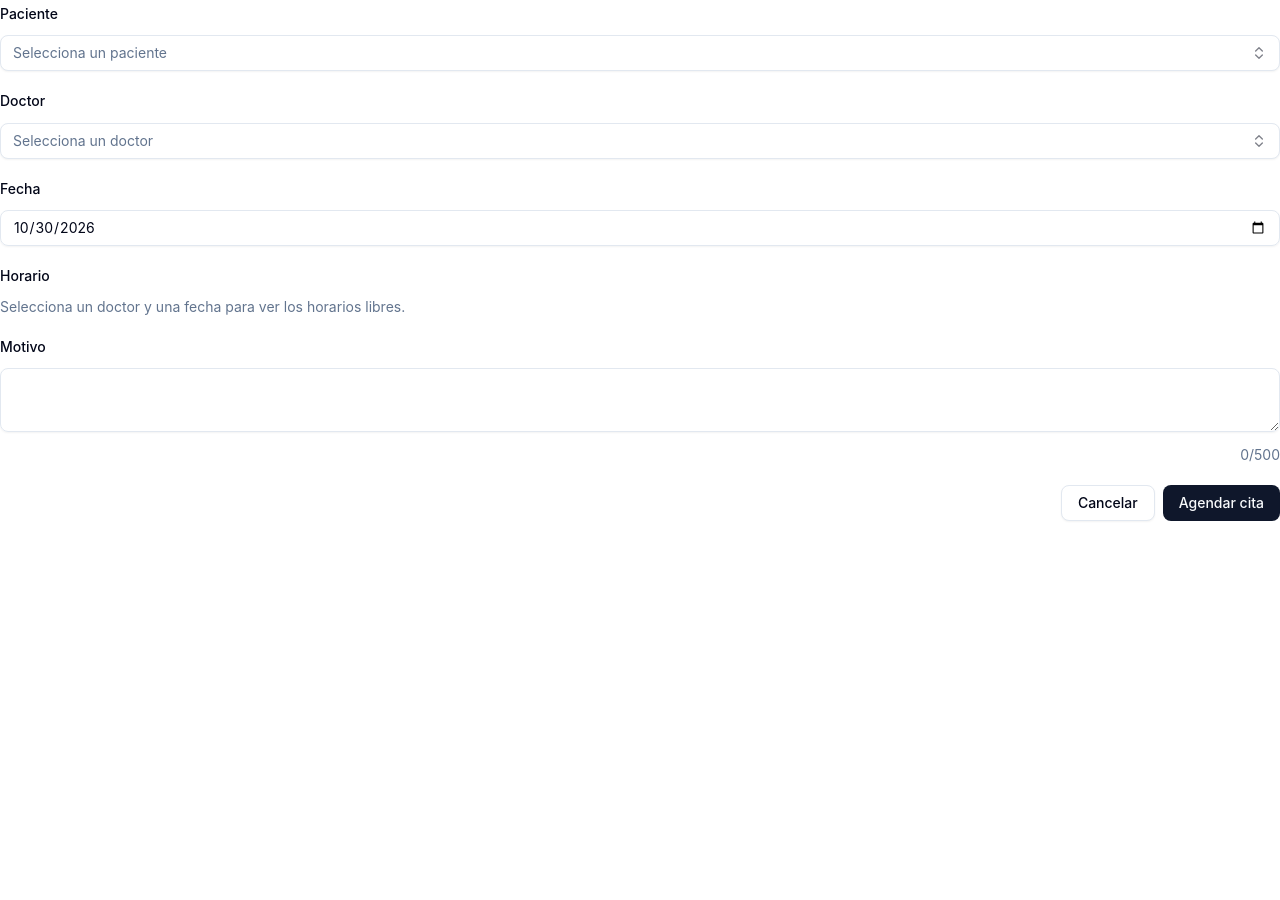
AppointmentForm › shows the slots error and retries
The image size is (1280, 900).
Click the dropdown labelled "doctor" at x=83, y=140, box [0,122,1279,158]
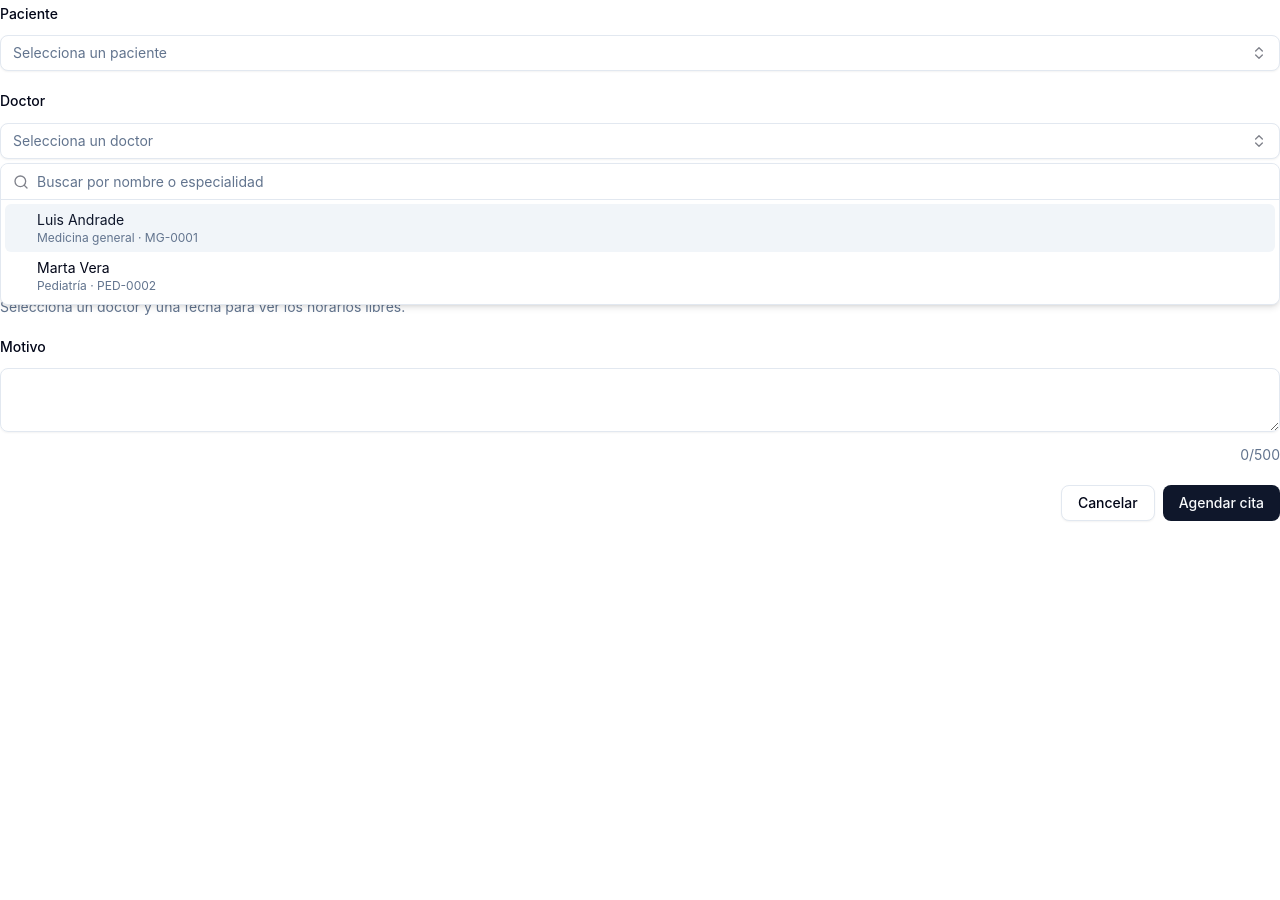
Click the option "Luis Andrade Medicina general · MG-0001" at x=81, y=220, box [5,204,1275,252]
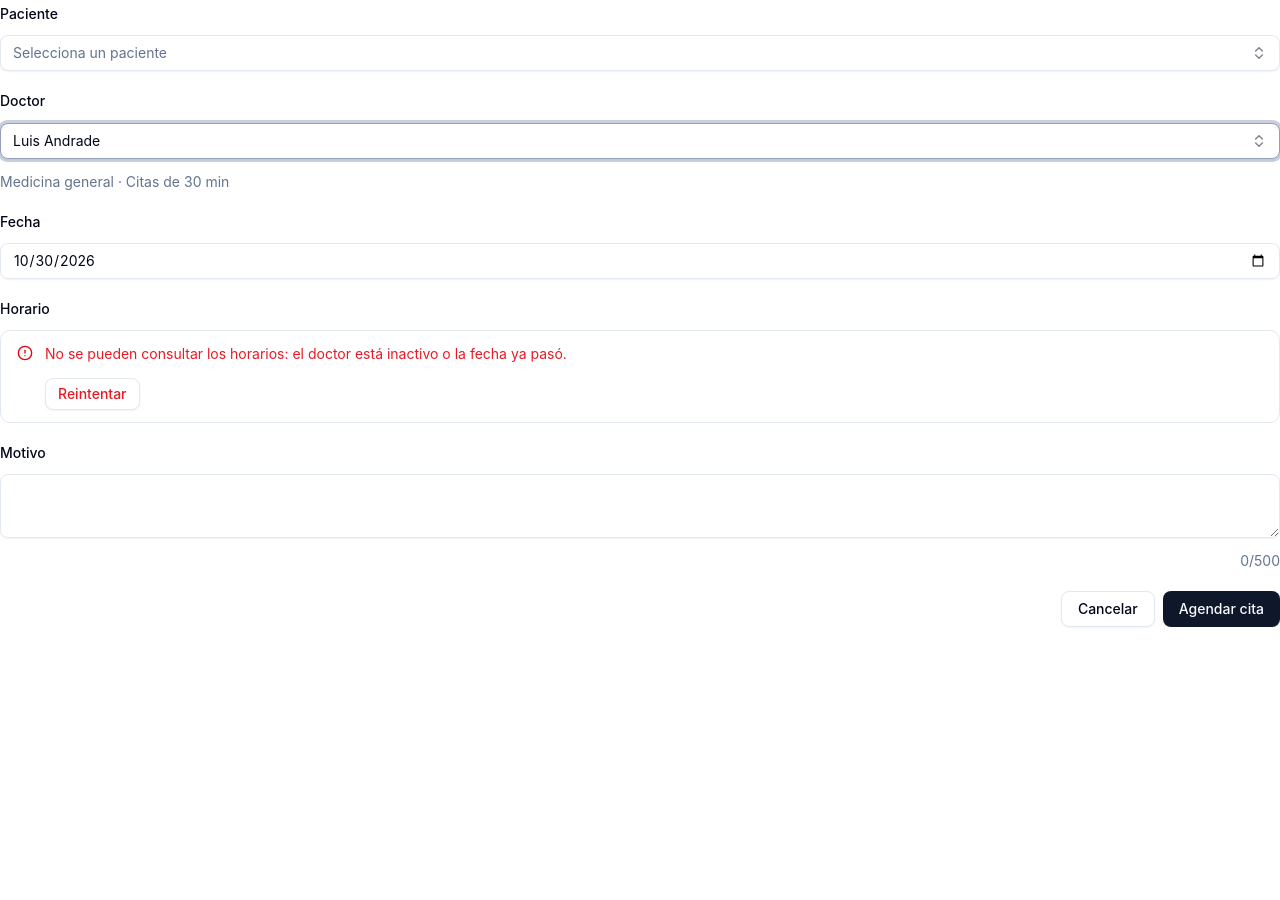
Check: the text "No se pueden consultar los horarios: el doctor está inactivo o la fecha ya pasó." is shown, box [45,343,567,366]
Click the button "Reintentar" at x=92, y=394, box [45,378,140,410]
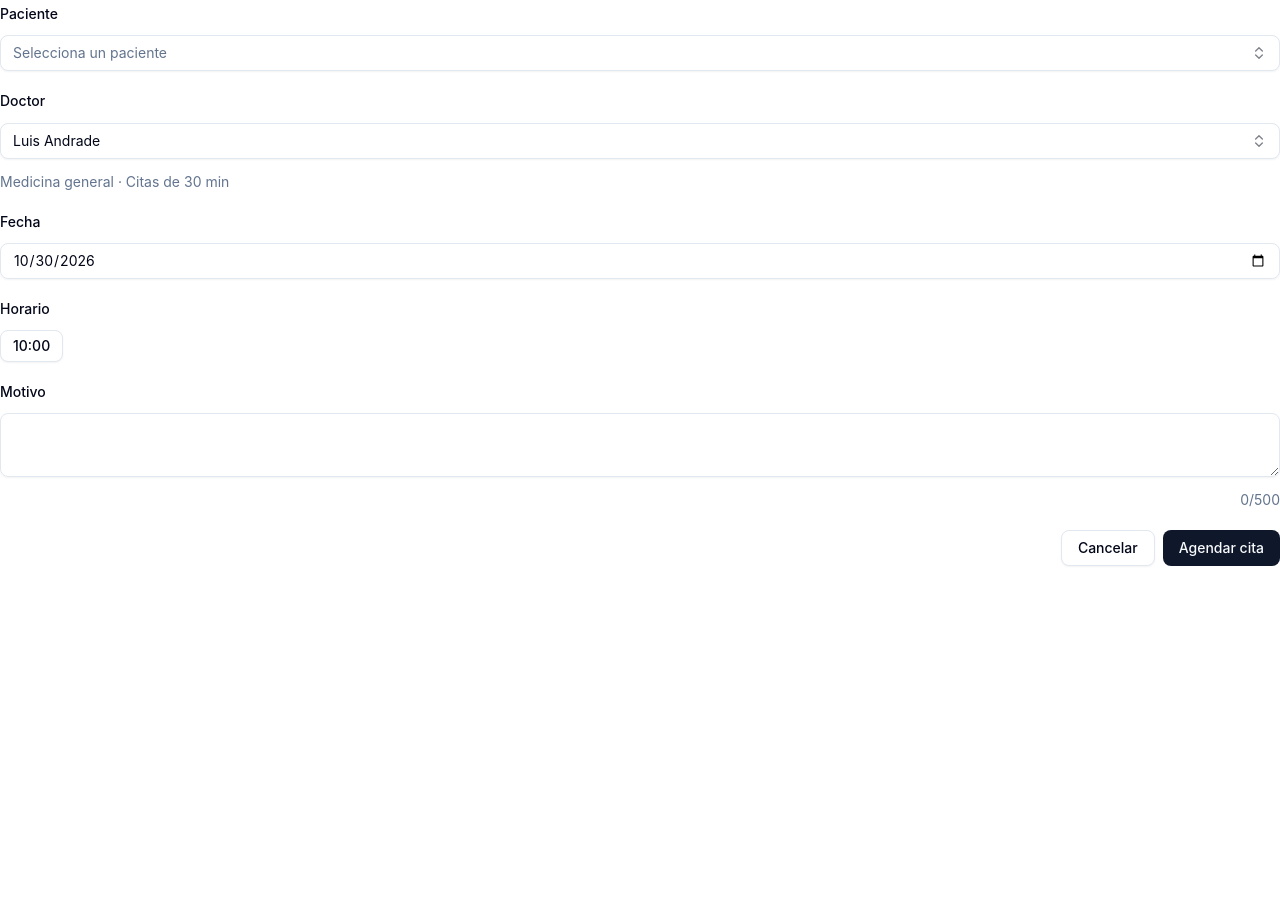
Check: the button named "10:00 a 10:30" is shown, box [0,330,63,362]
